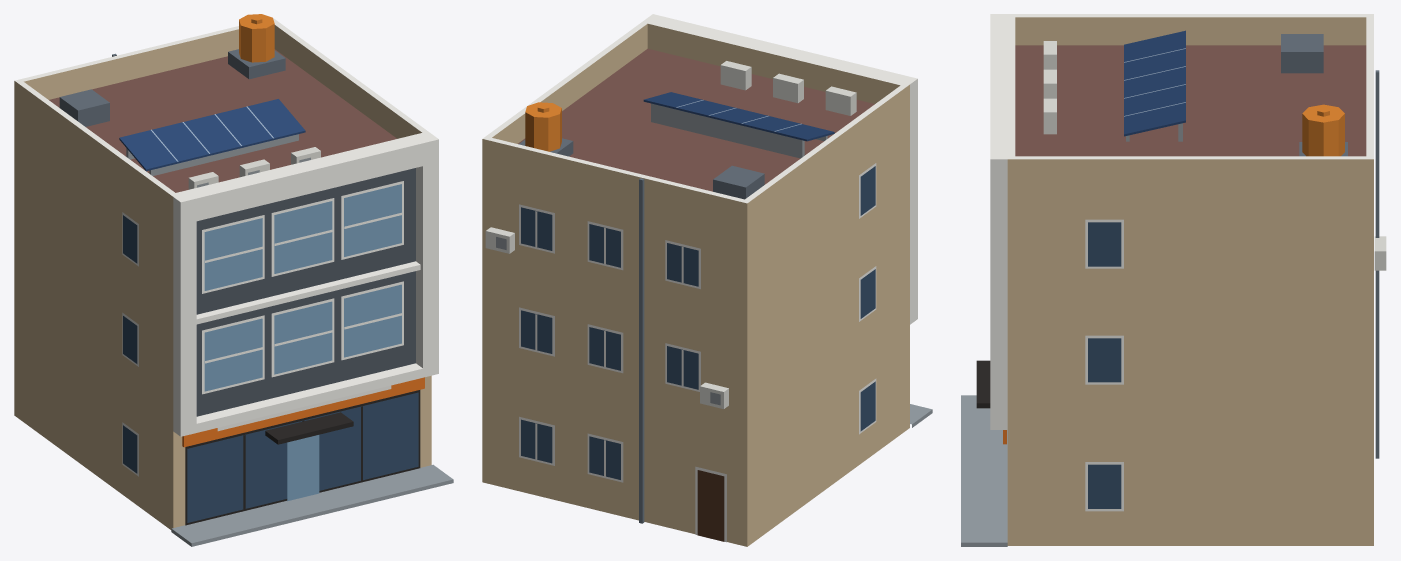
File: kantor_05.glb
3 views of the same model, side by side, from view 1: azimuth 30°, elevation 25°; view 2: azimuth 150°, elevation 25°; view 3: azimuth 270°, elevation 25° (orthographic). The views are drawn at different scales.
Parts seen in each view (by area): view 1: kantor_05; view 2: kantor_05; view 3: kantor_05.
Part boxes in pixels (x1,y1,x2,y2): kantor_05: (14, 14, 453, 546); kantor_05: (482, 14, 932, 546); kantor_05: (961, 14, 1386, 546).
Size of the model in its own units: 9 by 11.82 by 10.98.
